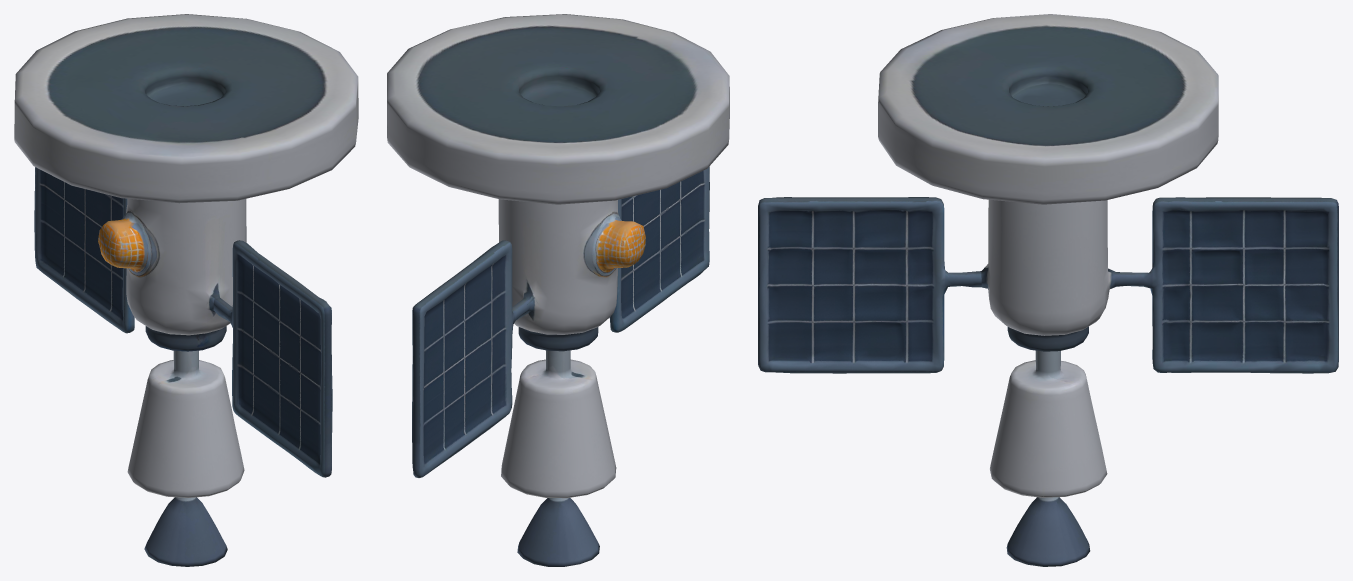
Rendered from satellite1.fbx.
The picture shows the model from 3 angles, left to right: view 1: azimuth 30°, elevation 25°; view 2: azimuth 150°, elevation 25°; view 3: azimuth 270°, elevation 25°; orthographic projection.
Parts seen in each view (by area): view 1: testa, satellite, antenna01, antenna02; view 2: testa, satellite, antenna02, antenna01; view 3: testa, satellite, antenna01, antenna02.
Boxes of the visible parts, <box> form: testa: <box>14,14,358,203</box>; satellite: <box>98,198,246,566</box>; antenna01: <box>213,240,332,477</box>; antenna02: <box>34,167,134,333</box>; testa: <box>387,14,729,204</box>; satellite: <box>498,199,645,566</box>; antenna02: <box>412,240,530,477</box>; antenna01: <box>609,166,709,332</box>; testa: <box>878,14,1218,204</box>; satellite: <box>981,199,1116,566</box>; antenna01: <box>758,197,981,373</box>; antenna02: <box>1115,197,1338,373</box>.
Bounding box in the file's own units: 60.22 × 88.37 × 99.98.
1 material, 1 textured.
